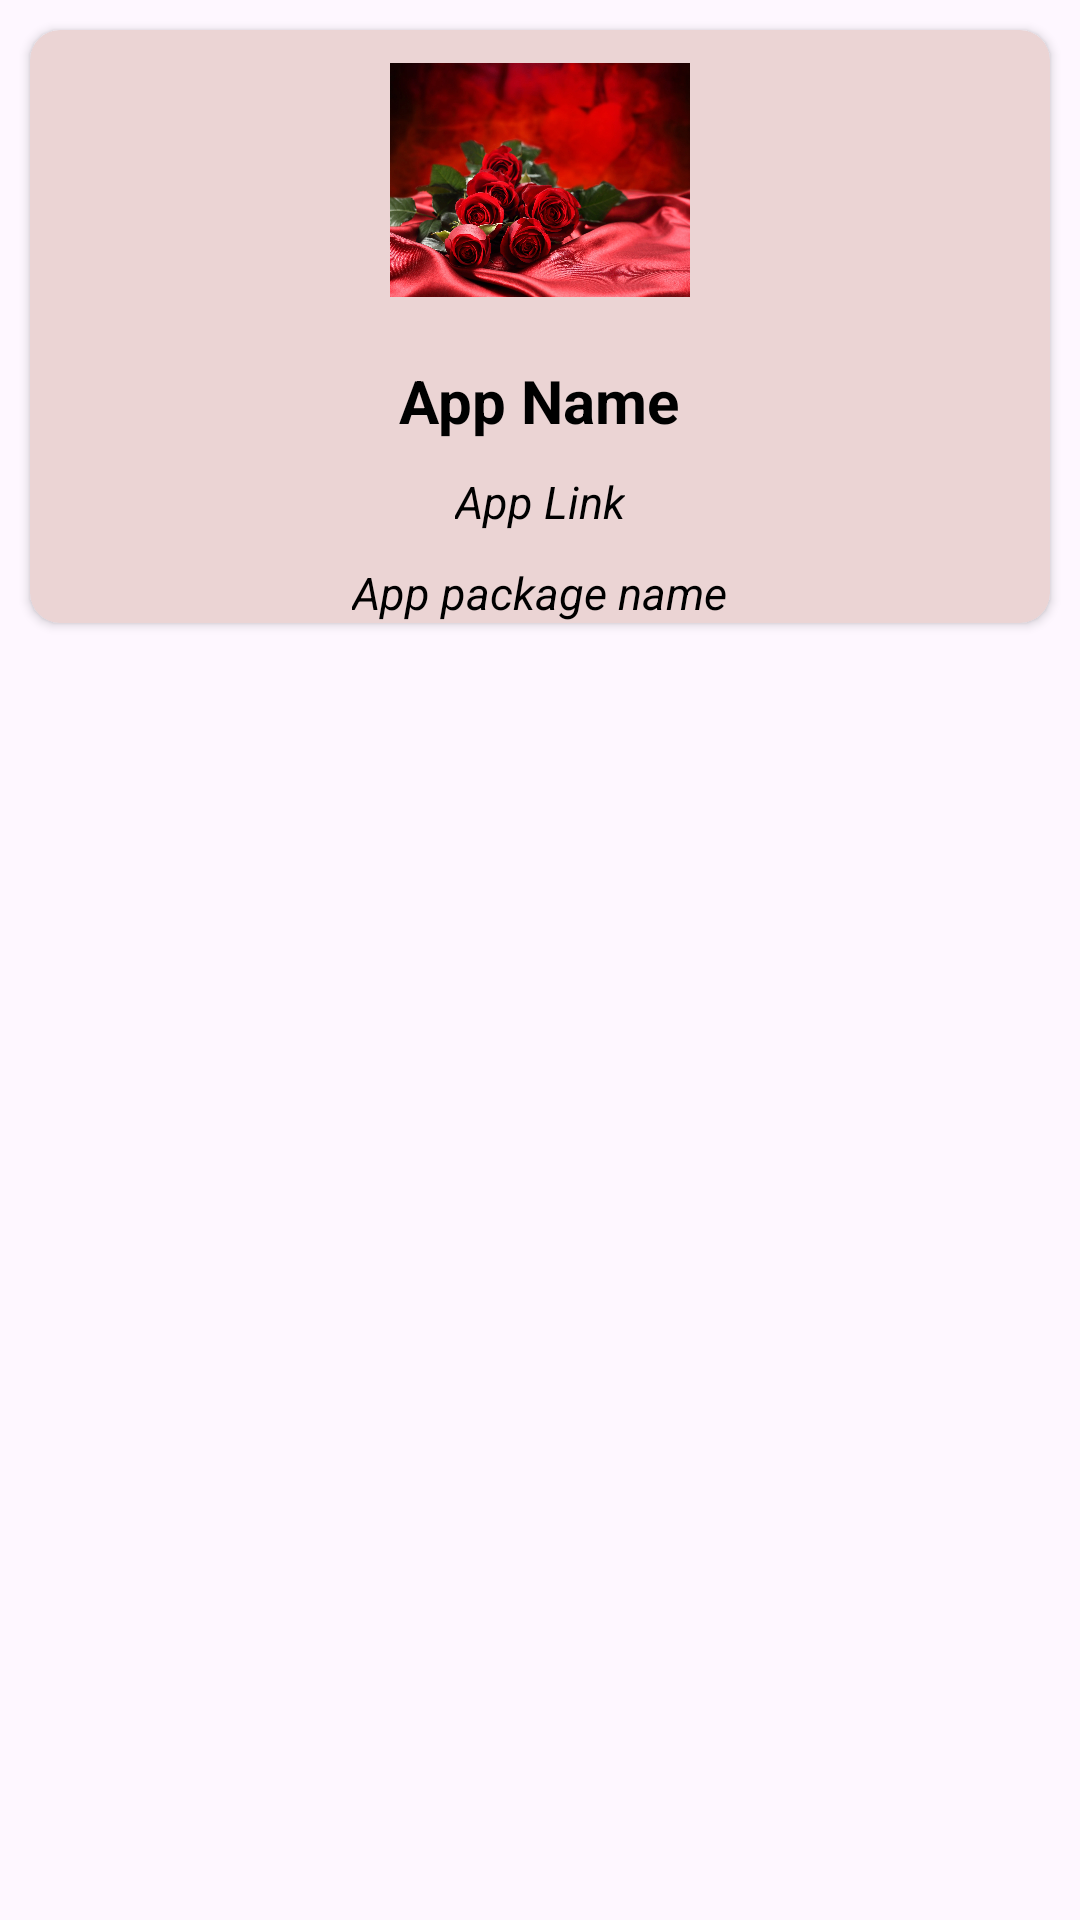

Where to tap for icons on this 1080 x 1920 app screen, as (x,y):
rose: (540,180)
